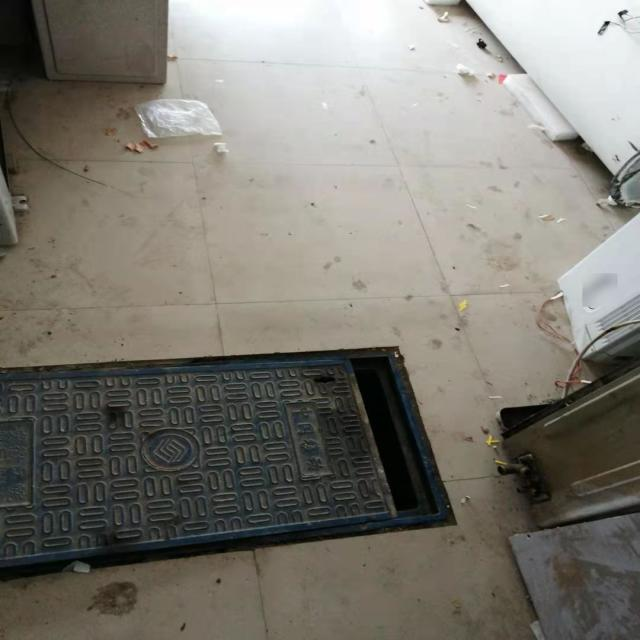Lose: (4, 345, 459, 585)
